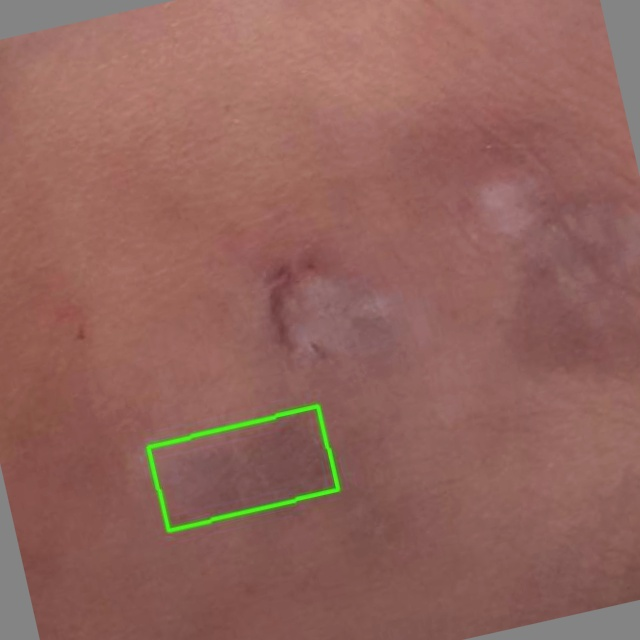Eczema: (148, 407, 337, 530)
